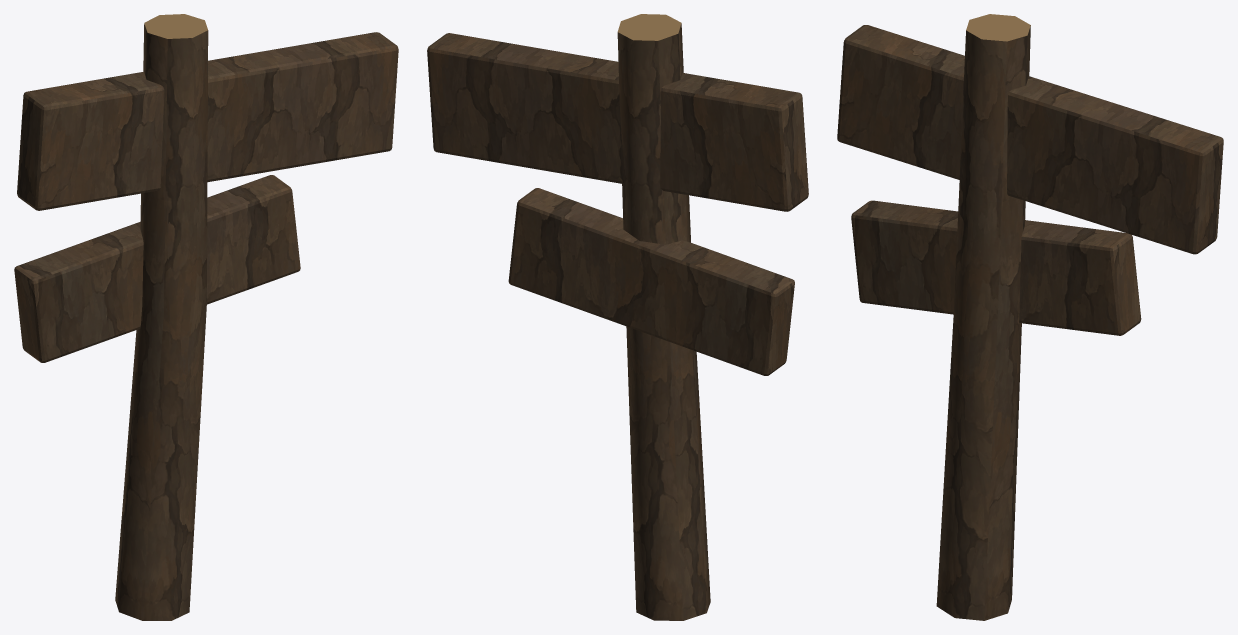
3 renders of one model, left to right at view 1: azimuth 30°, elevation 25°; view 2: azimuth 150°, elevation 25°; view 3: azimuth 330°, elevation 25°, orthographic.
Visible parts, largest first — view 1: Trail marker; view 2: Trail marker; view 3: Trail marker.
Boxes of the visible parts, x1,y1,x2,y2 form: Trail marker: (14,14,398,620); Trail marker: (427,14,808,620); Trail marker: (837,14,1223,620).
Bounding box in the file's own units: 1.52 × 2.31 × 0.2913.
Materials: 2 (1 with a texture image).
